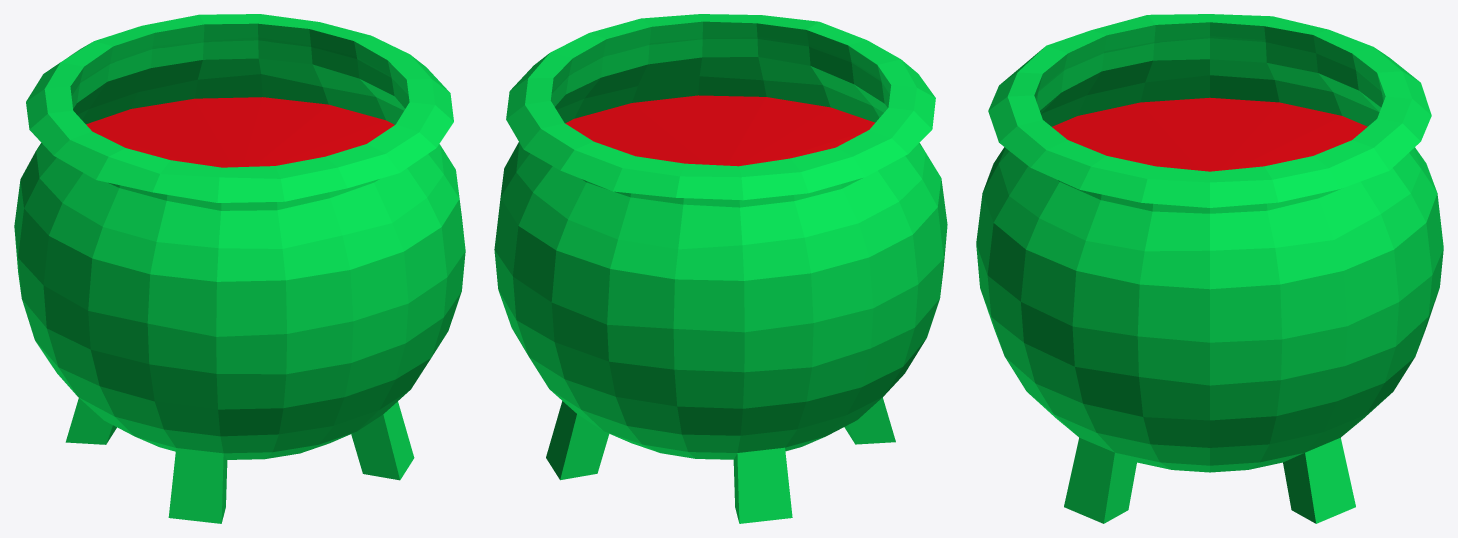
File: Low-Kessel.fbx
3 views of the same model, side by side, from view 1: azimuth 30°, elevation 25°; view 2: azimuth 150°, elevation 25°; view 3: azimuth 270°, elevation 25° (orthographic). The views are drawn at different scales.
Parts seen in each view (by area): view 1: Low-Kessel, Low-Kessel-Suppe; view 2: Low-Kessel, Low-Kessel-Suppe; view 3: Low-Kessel, Low-Kessel-Suppe.
Boxes of the visible parts, x1,y1,x2,y2 form: Low-Kessel: [14, 14, 465, 523]; Low-Kessel-Suppe: [86, 97, 394, 167]; Low-Kessel: [494, 14, 947, 523]; Low-Kessel-Suppe: [565, 95, 874, 166]; Low-Kessel: [976, 14, 1443, 523]; Low-Kessel-Suppe: [1052, 97, 1367, 171].
Bounding box in the file's own units: 230 × 200 × 230.
